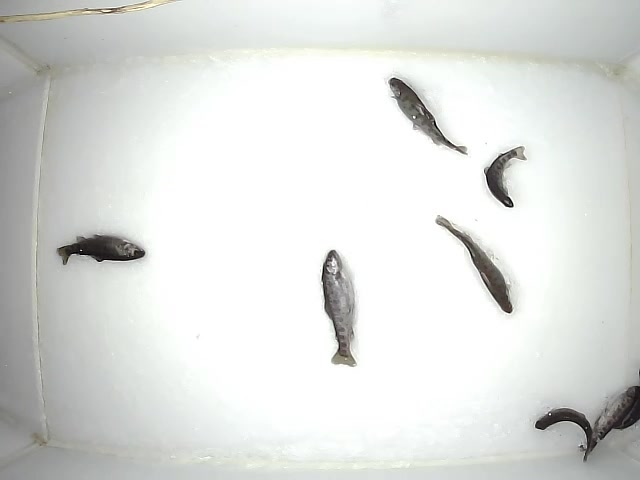fish: (433, 213, 514, 315), (386, 75, 470, 155), (580, 383, 640, 466), (316, 249, 357, 369), (55, 230, 147, 266), (481, 144, 527, 209), (533, 405, 592, 455)
